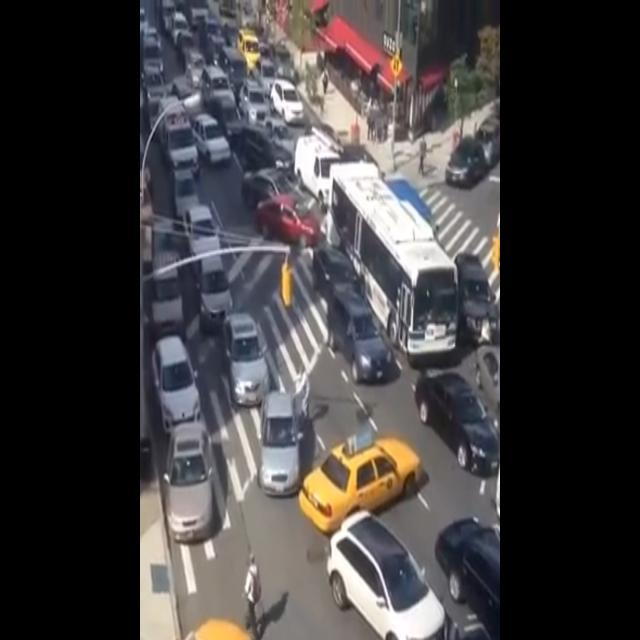Ambulance: (156, 86, 200, 180)
